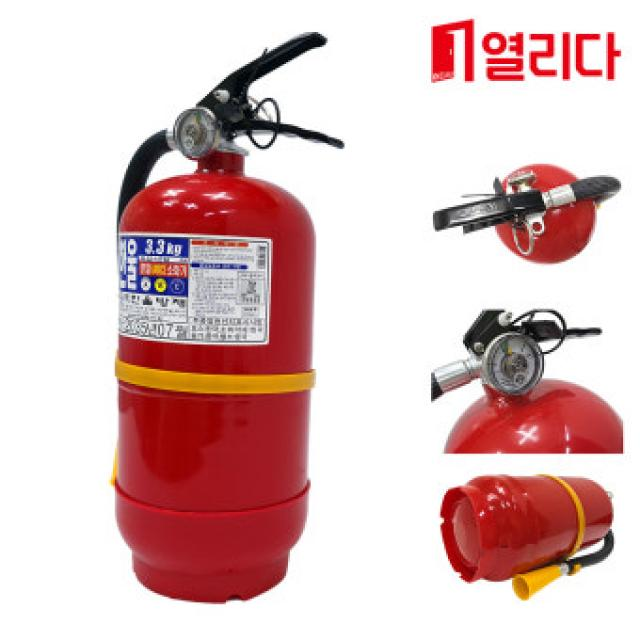pressure gauge: (482, 334, 543, 395), (174, 108, 220, 159)
